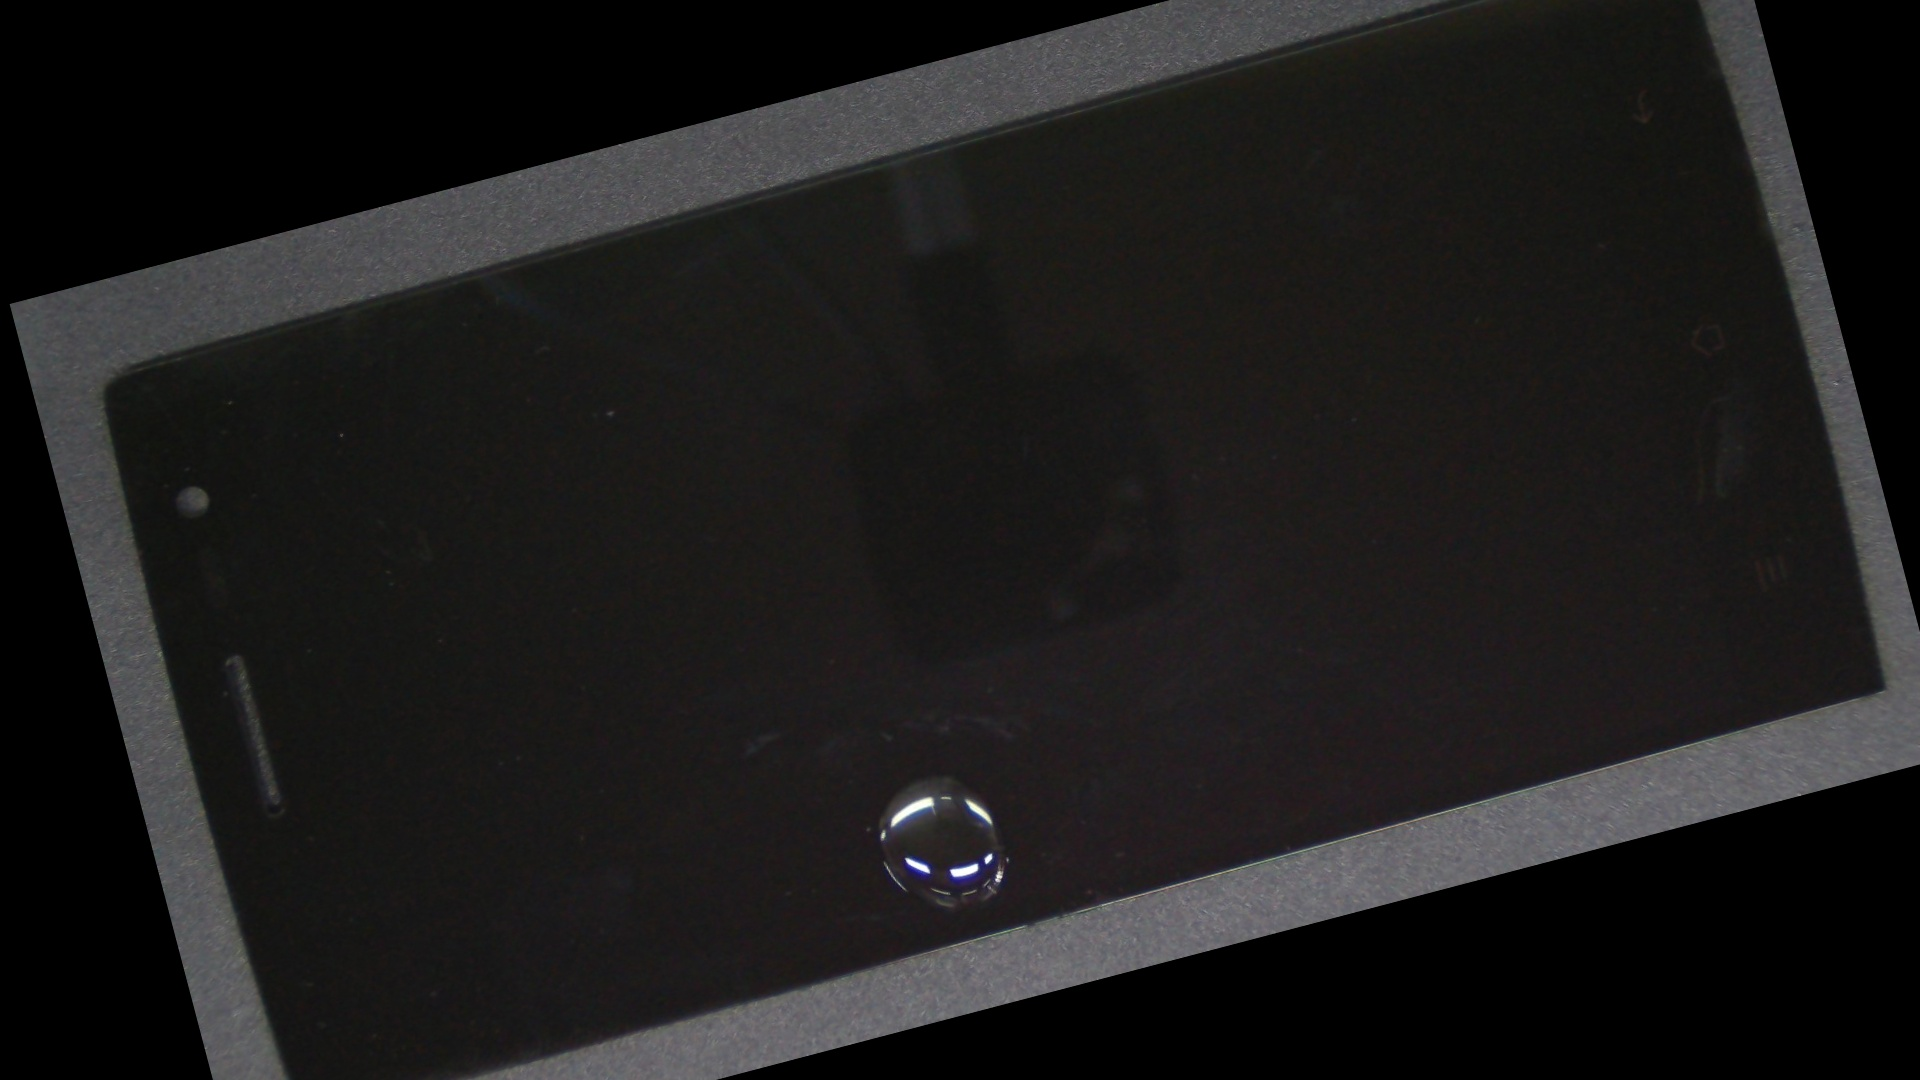oil: (467, 348, 1353, 1080)
